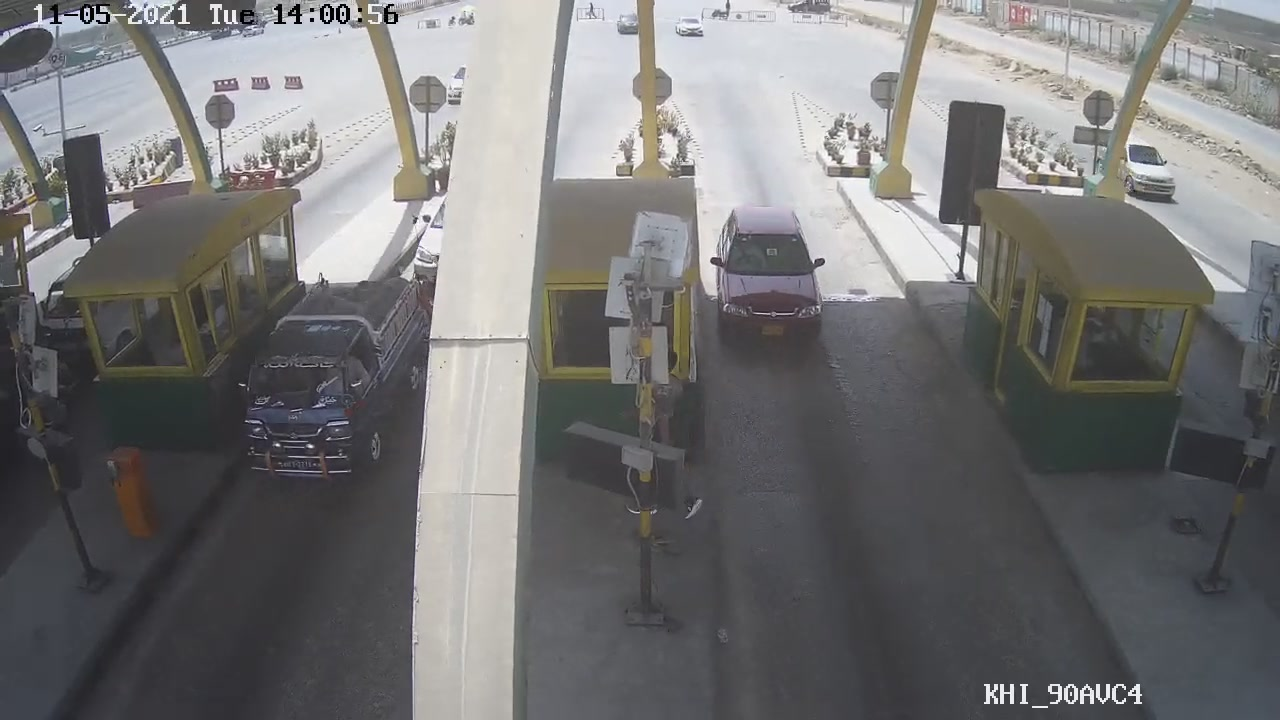F1: (699, 205, 833, 362)
